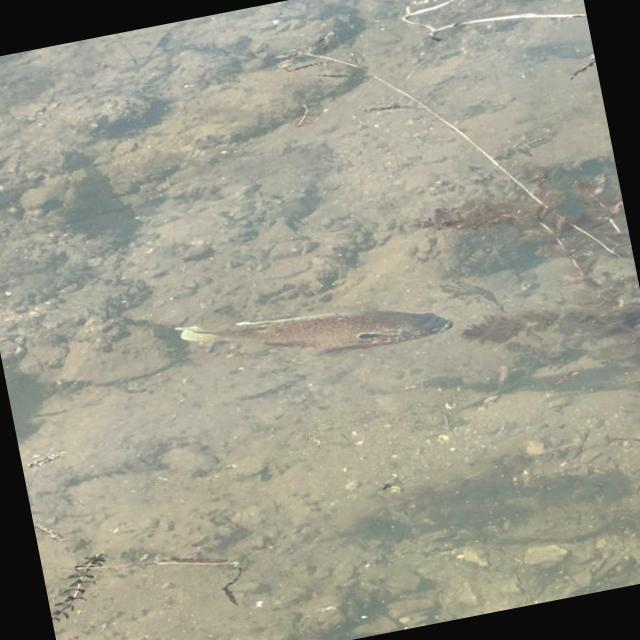Gunes Levregi: (158, 270, 462, 392)
